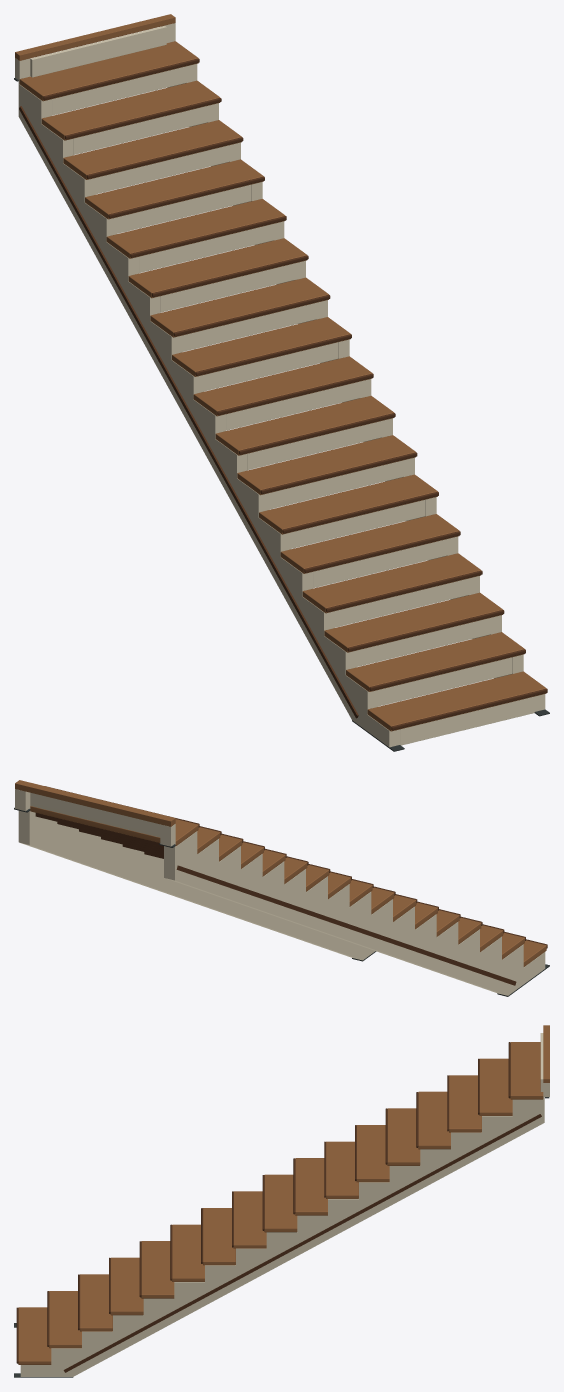
The model's file is rpg-mansion-stair-flight-eighteen-riser-01.glb.
The picture shows the model from 3 angles, top to bottom: view 1: azimuth 30°, elevation 25°; view 2: azimuth 150°, elevation 25°; view 3: azimuth 270°, elevation 25°; orthographic projection. The views are drawn at different scales.
Visible parts, largest first — view 1: rpg-mansion-stair-flight-eighteen-riser-01; view 2: rpg-mansion-stair-flight-eighteen-riser-01; view 3: rpg-mansion-stair-flight-eighteen-riser-01.
Part boxes in pixels (x1=…): rpg-mansion-stair-flight-eighteen-riser-01: x1=14, y1=14, x2=549, y2=751; rpg-mansion-stair-flight-eighteen-riser-01: x1=14, y1=780, x2=549, y2=996; rpg-mansion-stair-flight-eighteen-riser-01: x1=14, y1=1025, x2=549, y2=1377.
Size of the model in its own units: 1.18 by 3 by 4.88.
